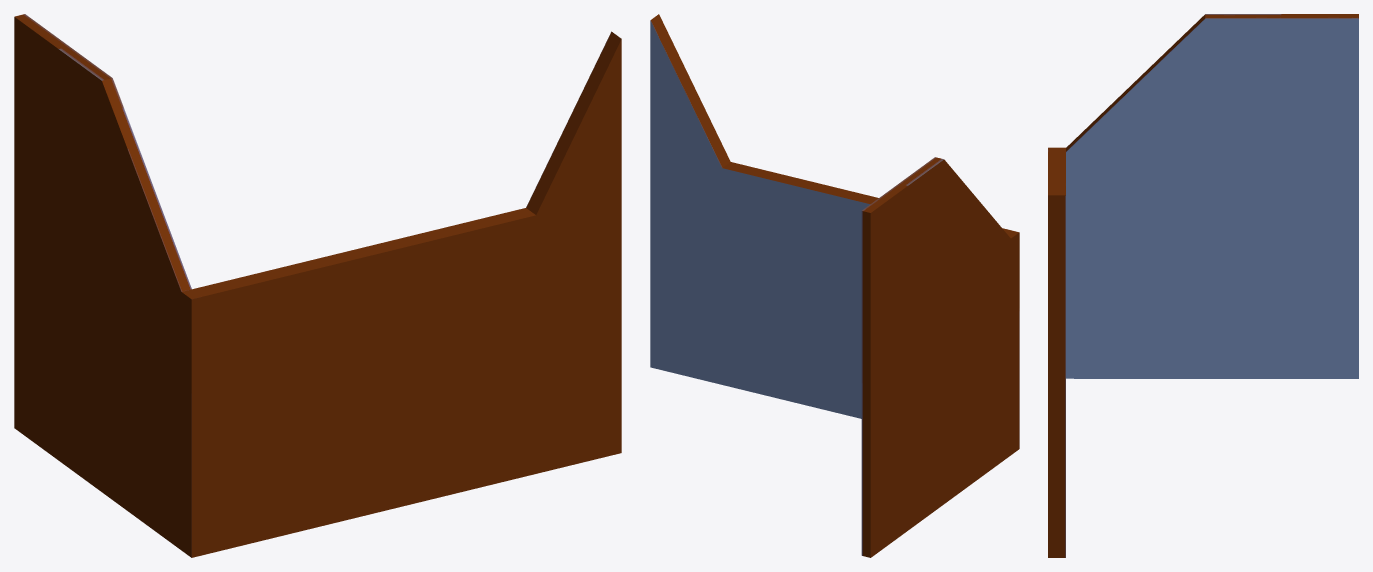
Rendered from Open_Wall_Bathroom.glb.
The picture shows the model from 3 angles, left to right: view 1: azimuth 30°, elevation 25°; view 2: azimuth 150°, elevation 25°; view 3: azimuth 270°, elevation 25°; orthographic projection. The views are drawn at different scales.
Parts seen in each view (by area): view 1: Plane.008; view 2: Plane.008; view 3: Plane.008.
Part boxes in pixels (x1,y1,x2,y2): Plane.008: (14, 14, 621, 557); Plane.008: (650, 14, 1019, 557); Plane.008: (1048, 14, 1358, 557).
Bounding box in the file's own units: 2.5 × 2.3 × 1.79.
Materials: 2 (1 with a texture image).
